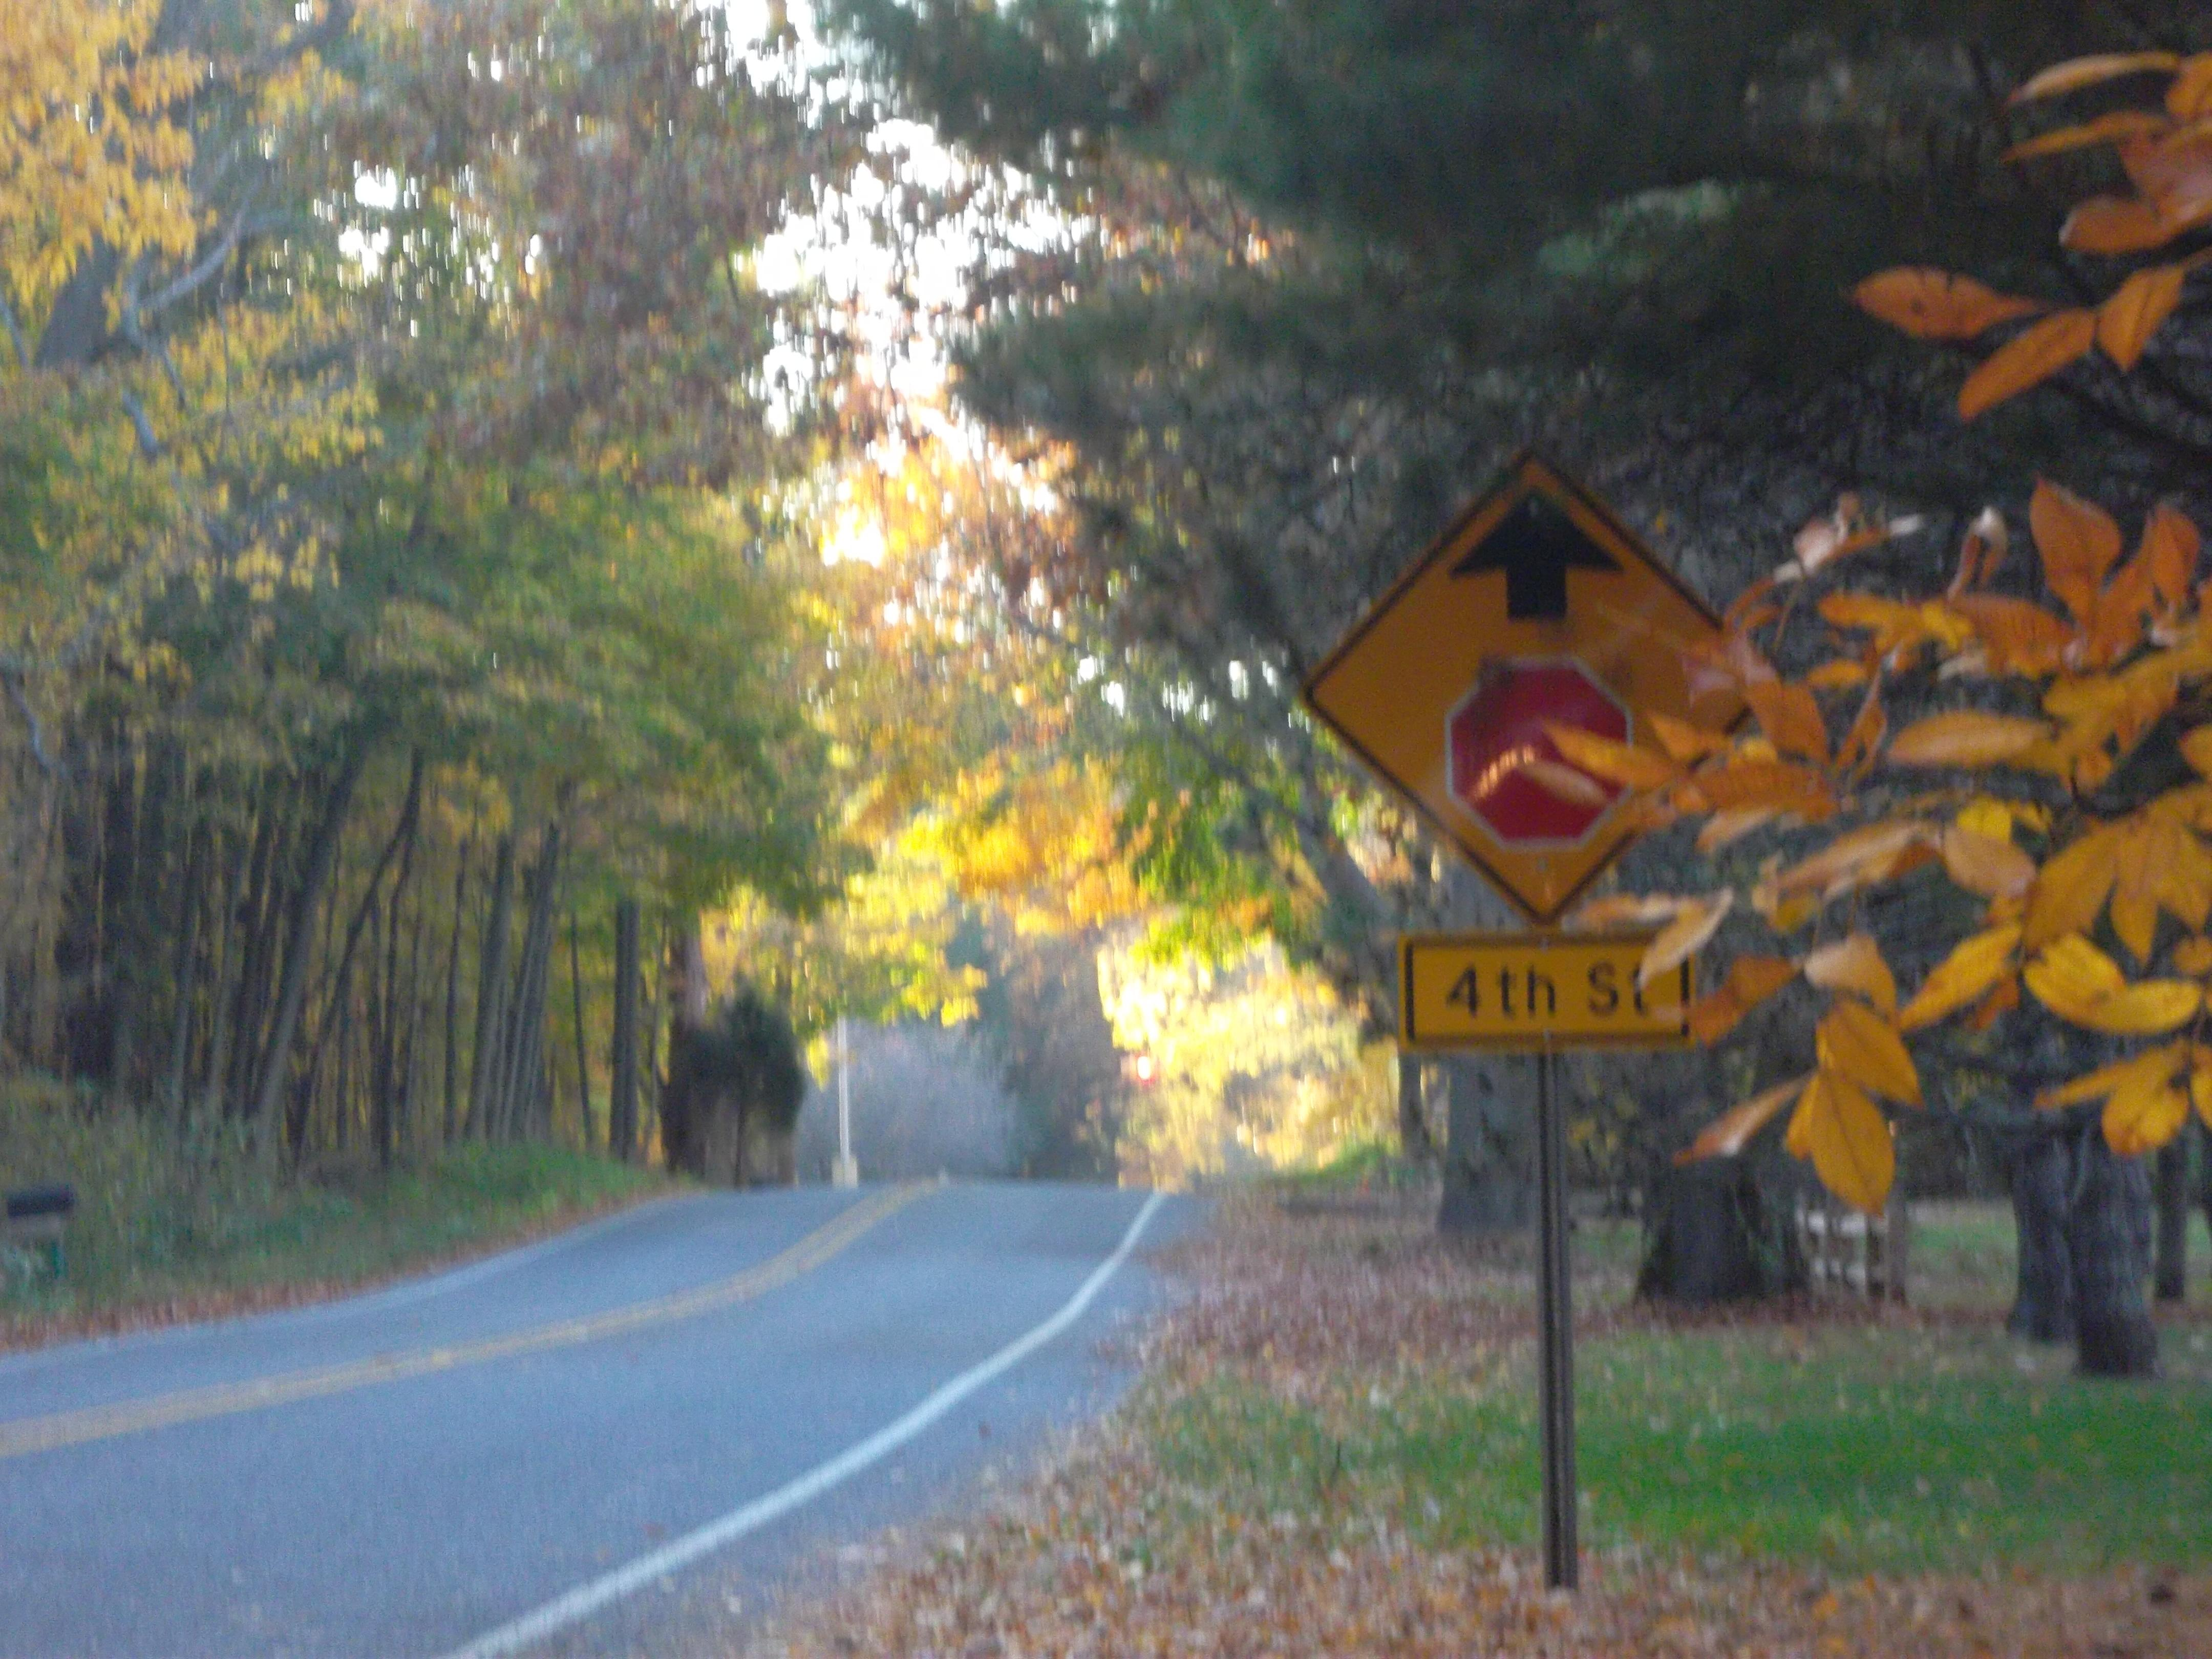stop: (1446, 647, 1641, 843)
warning: (1285, 477, 1804, 925)
